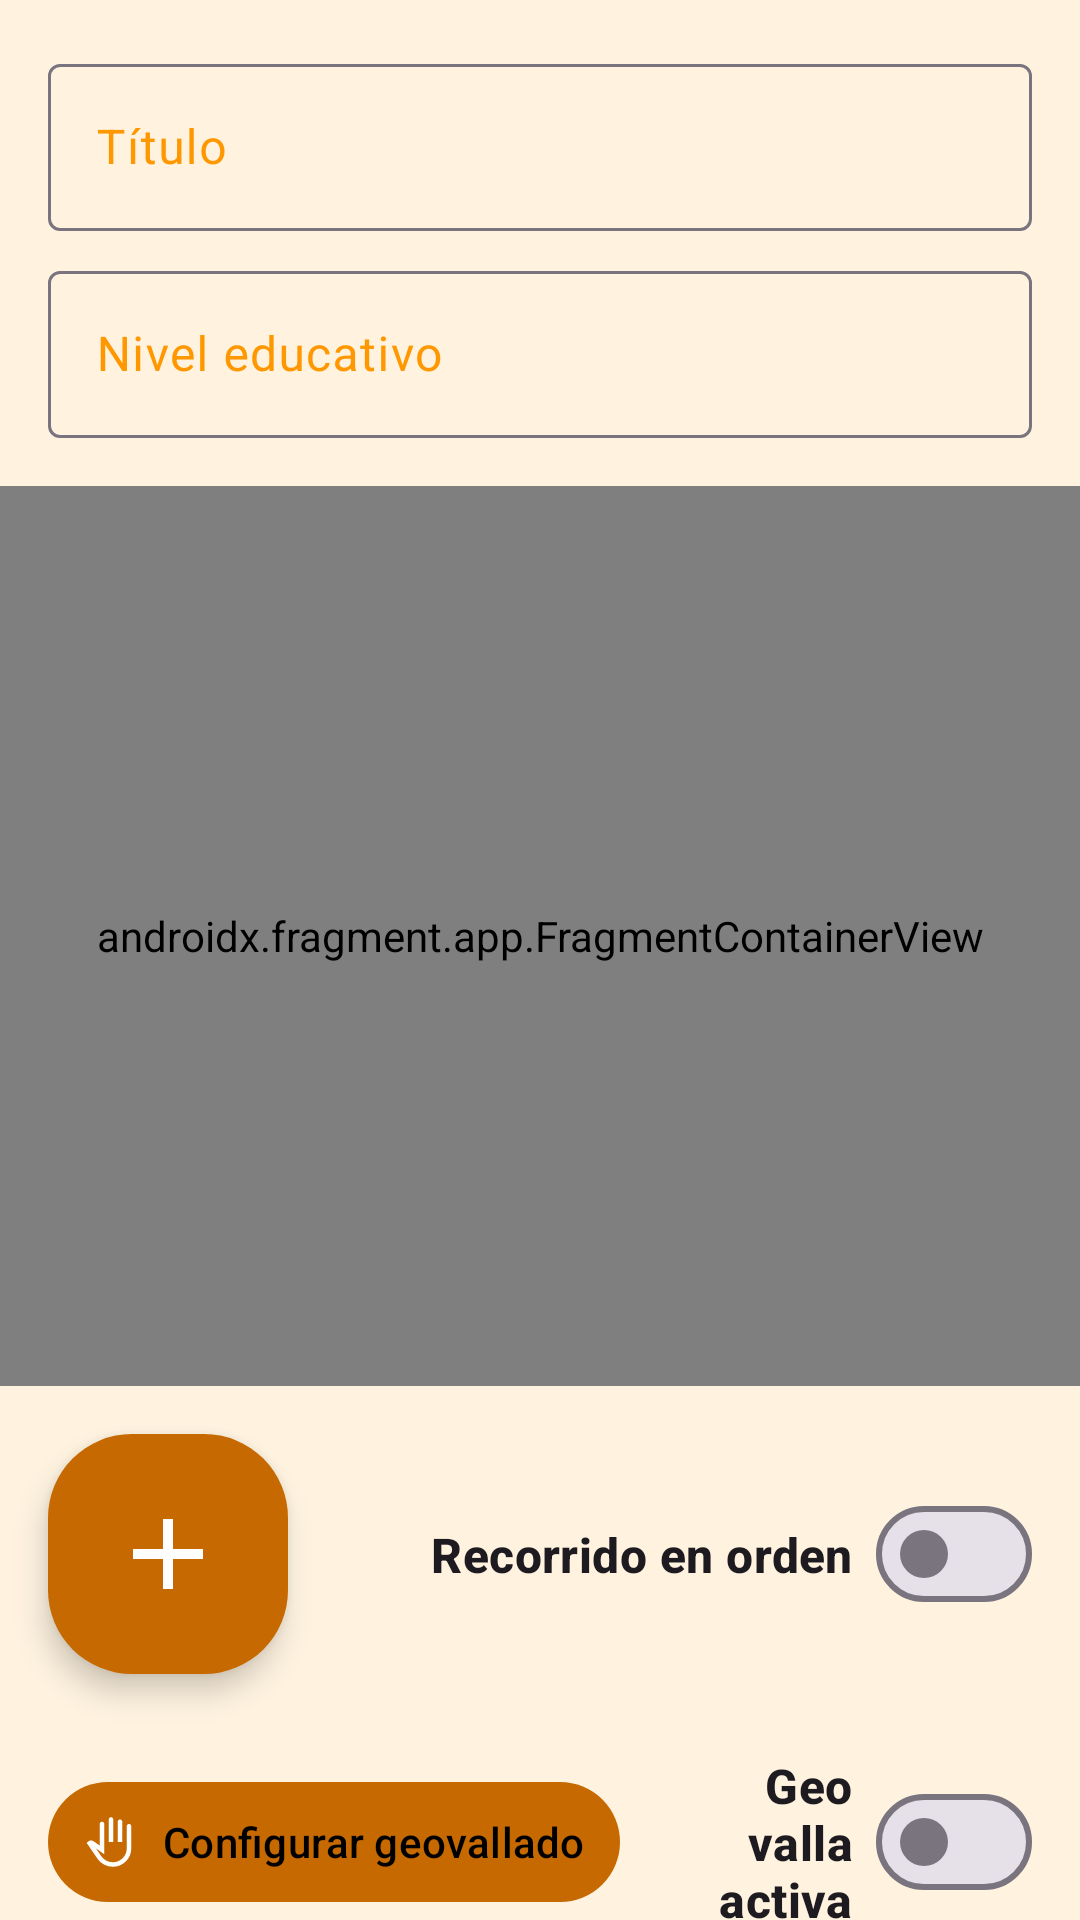

Icons on this 1080px x 1920px Android screen, each with its box as BBox(x1, y1, x2, y2):
Añadir hito: BBox(48, 1434, 288, 1674)
